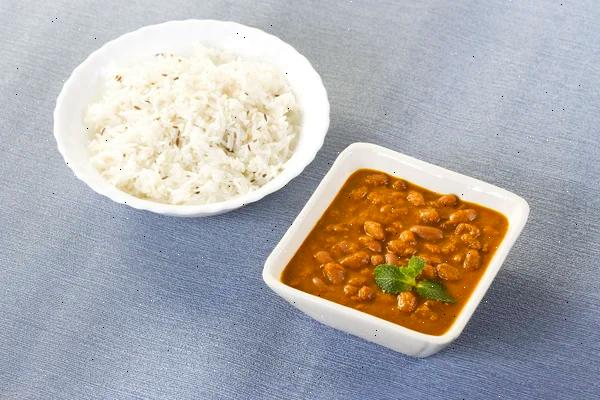rajma: (319, 174, 494, 330)
rice: (95, 60, 318, 203)
